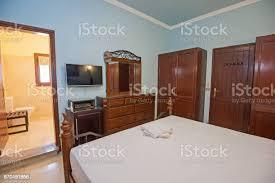TV: (60, 62, 104, 90)
bed: (58, 114, 275, 183)
door: (207, 42, 256, 130), (0, 49, 10, 155)
table: (68, 109, 104, 140), (8, 109, 28, 137)
